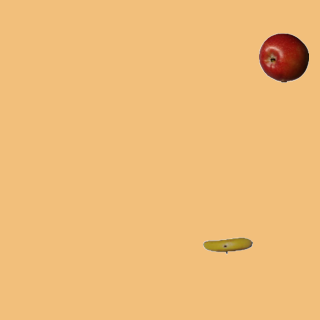Apple Braeburn: (258, 32, 308, 82)
Banana: (202, 220, 252, 270)
